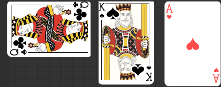AH: (212, 67, 221, 84)
